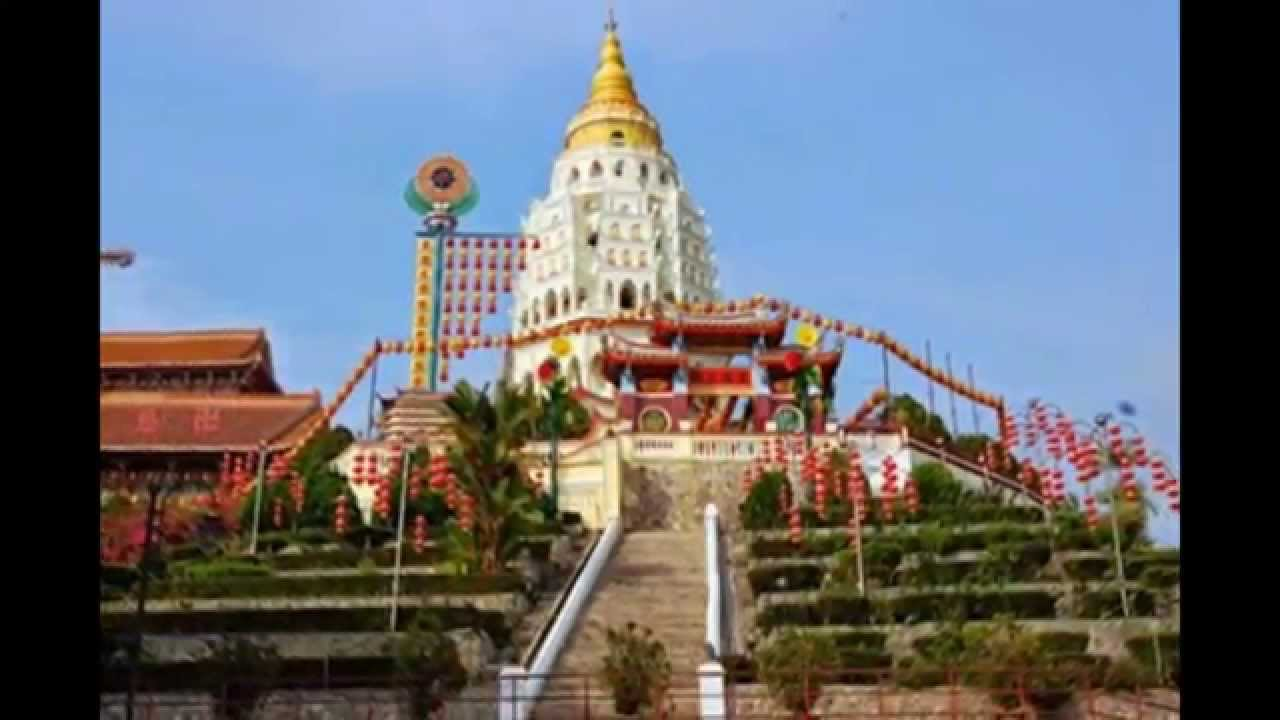Buddhist Temple: (486, 31, 731, 388)
